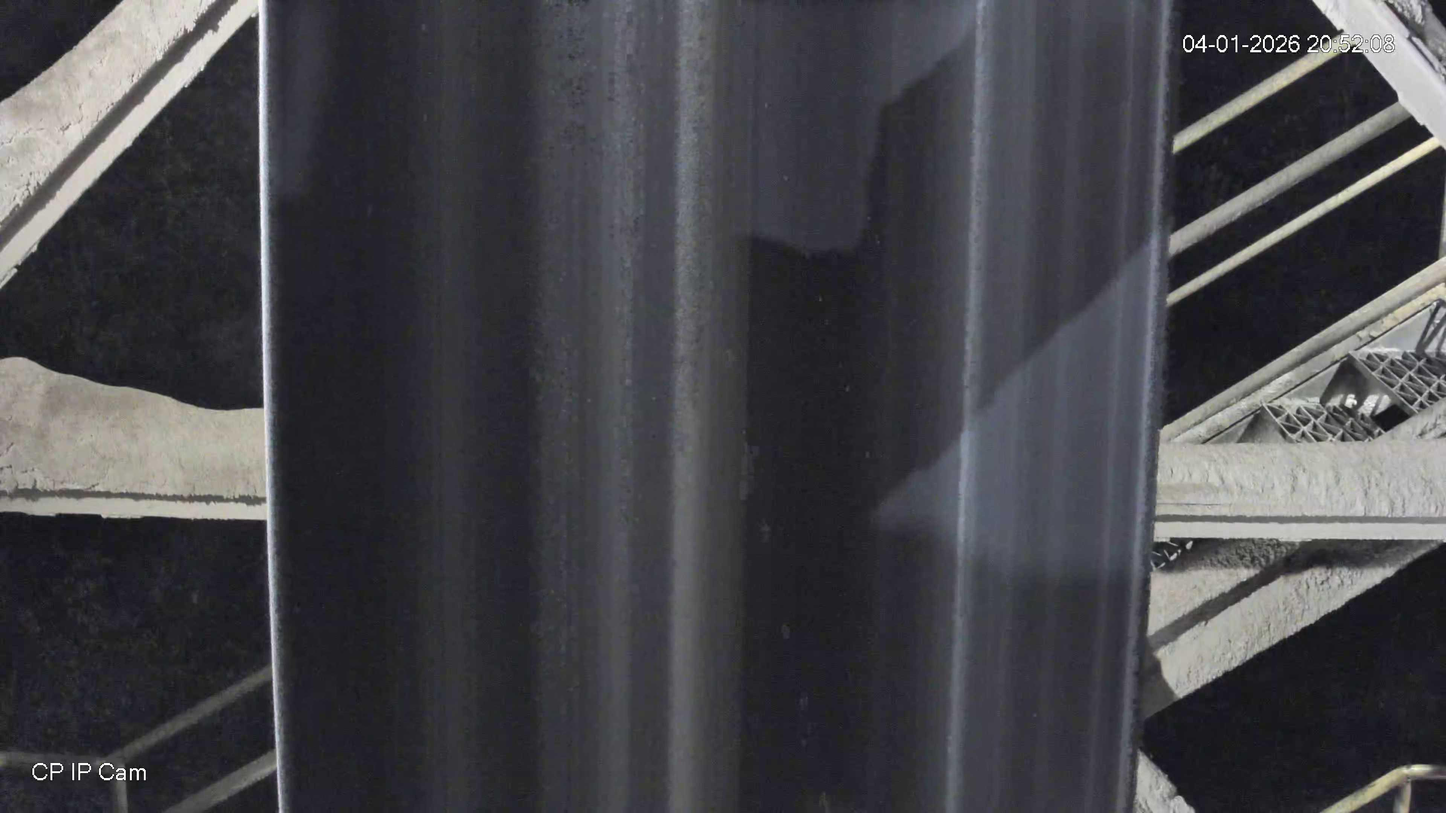belt_roi: (258, 0, 1176, 813)
